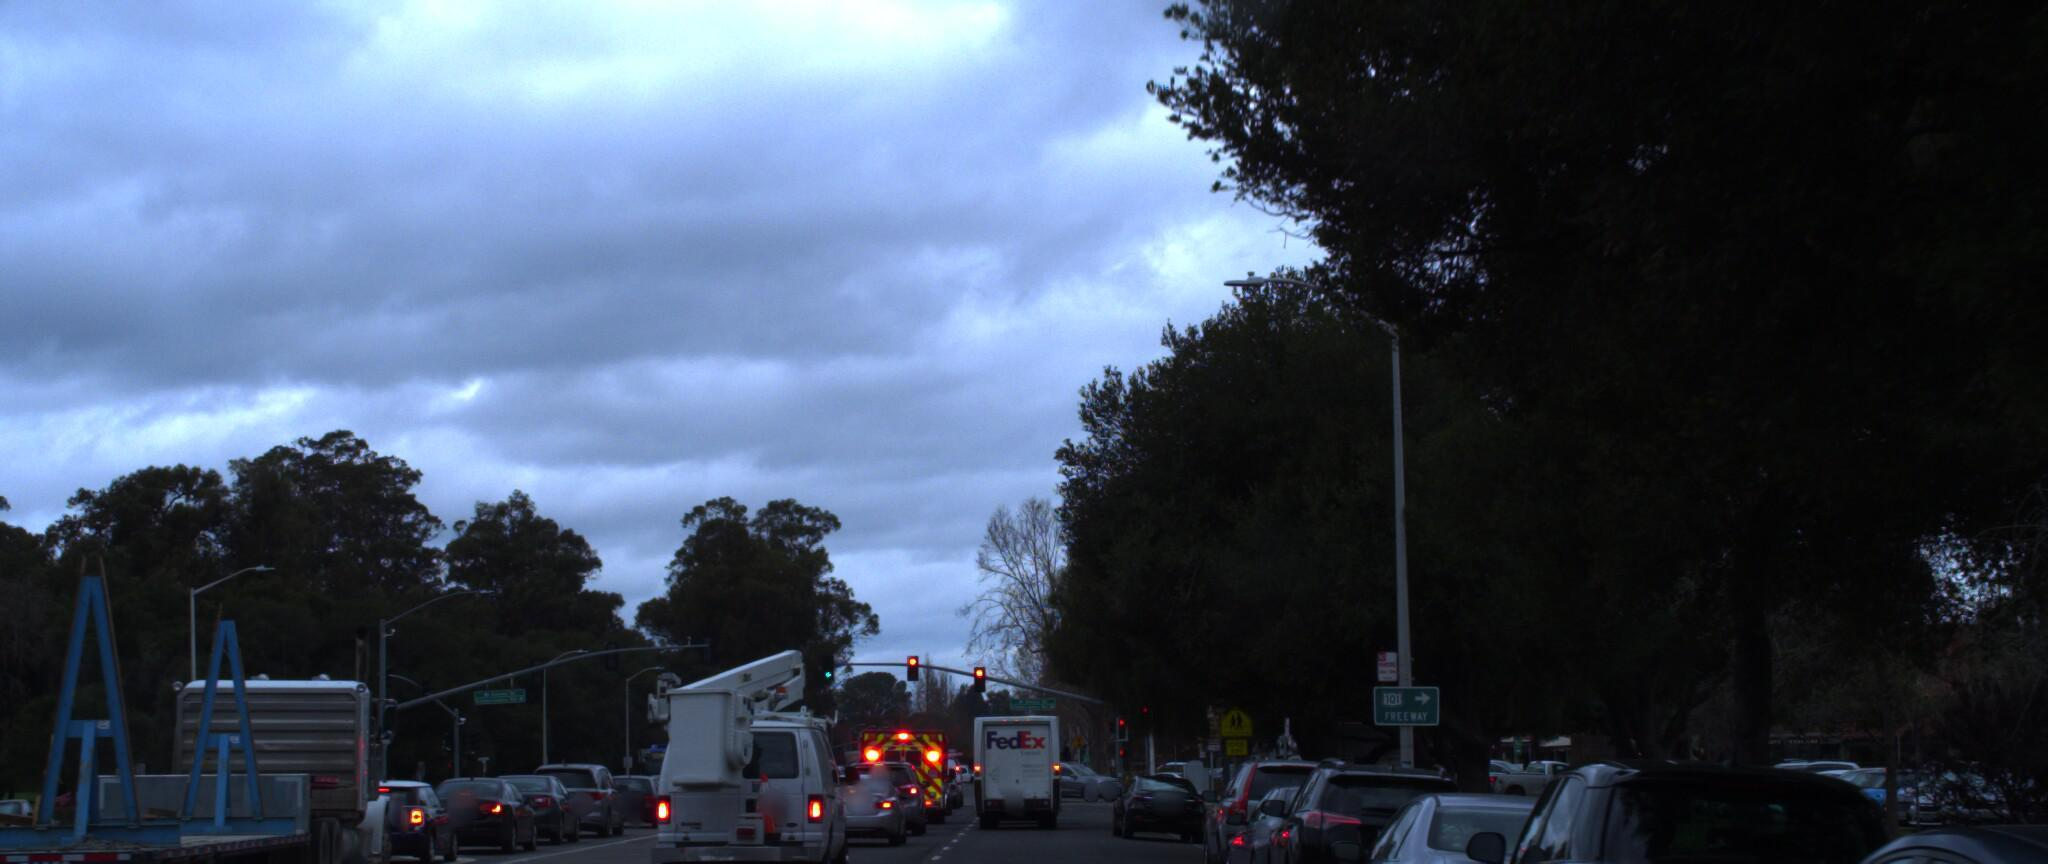car: (1432, 730, 1985, 864), (1307, 760, 1706, 864), (1621, 778, 2048, 864), (1260, 731, 1489, 864), (1189, 732, 1368, 864), (1219, 756, 1435, 864), (332, 761, 468, 854), (422, 764, 546, 844), (802, 752, 910, 837), (475, 761, 583, 835), (1102, 754, 1202, 831), (533, 760, 627, 826), (0, 780, 10, 864)
other_vehicle: (633, 624, 861, 864)
truck: (0, 542, 409, 864), (963, 697, 1061, 817)
